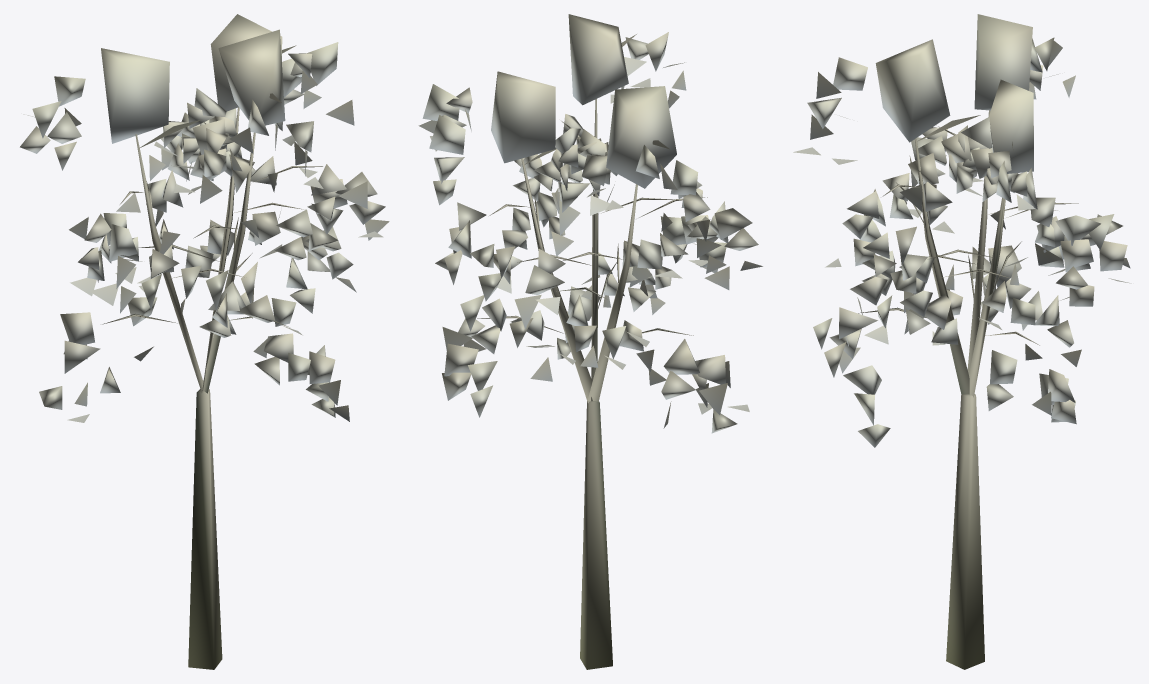
3 renders of one model, left to right at view 1: azimuth 30°, elevation 25°; view 2: azimuth 150°, elevation 25°; view 3: azimuth 270°, elevation 25°, orthographic. The views are drawn at different scales.
Parts seen in each view (by area): view 1: crown, trunk; view 2: crown, trunk; view 3: crown, trunk.
Boxes of the visible parts, <box> form: crown: <box>20,14,389,422</box>; trunk: <box>102,45,322,669</box>; crown: <box>418,14,762,433</box>; trunk: <box>477,34,707,669</box>; crown: <box>793,14,1131,447</box>; trunk: <box>858,110,1078,669</box>.
Size of the model in its own units: 7.33 by 14.15 by 6.95.
